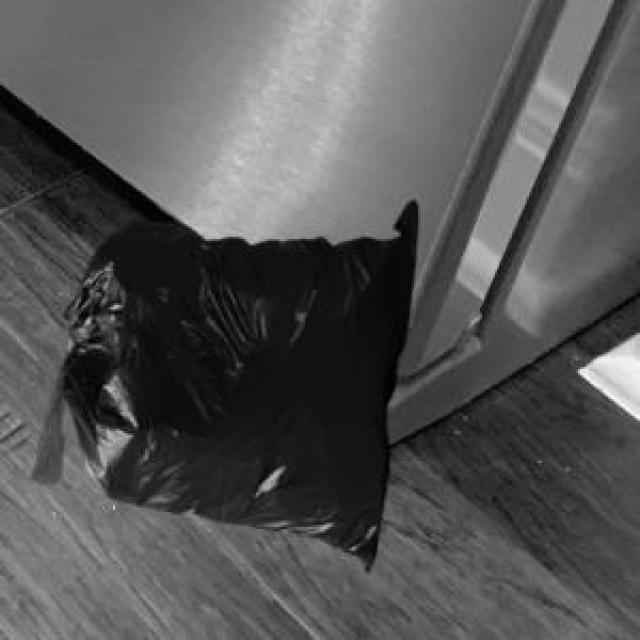miscellaneous trash: (26, 196, 414, 568)
